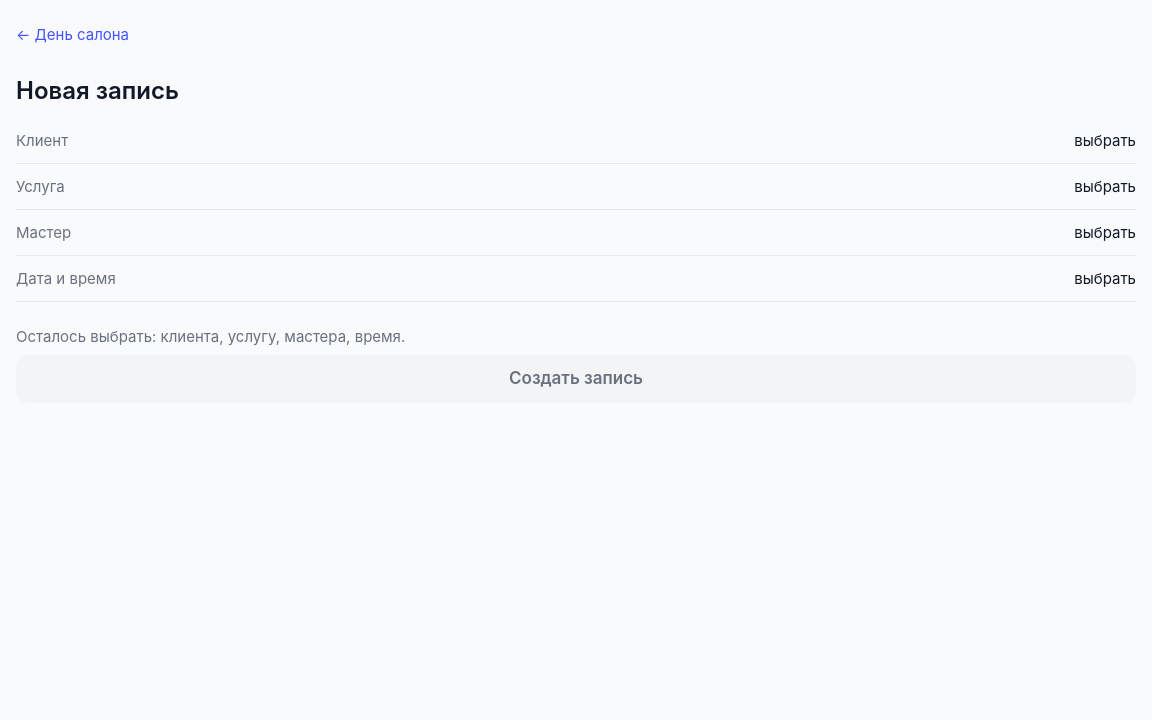
Salon v2 frozen presentation — DRF-2934 › shows explicit «Изменить» for a selected returning customer
The image size is (1152, 720).
Click the button labelled "Клиент выбрать": (42, 140) left=16, top=118, right=1136, bottom=164
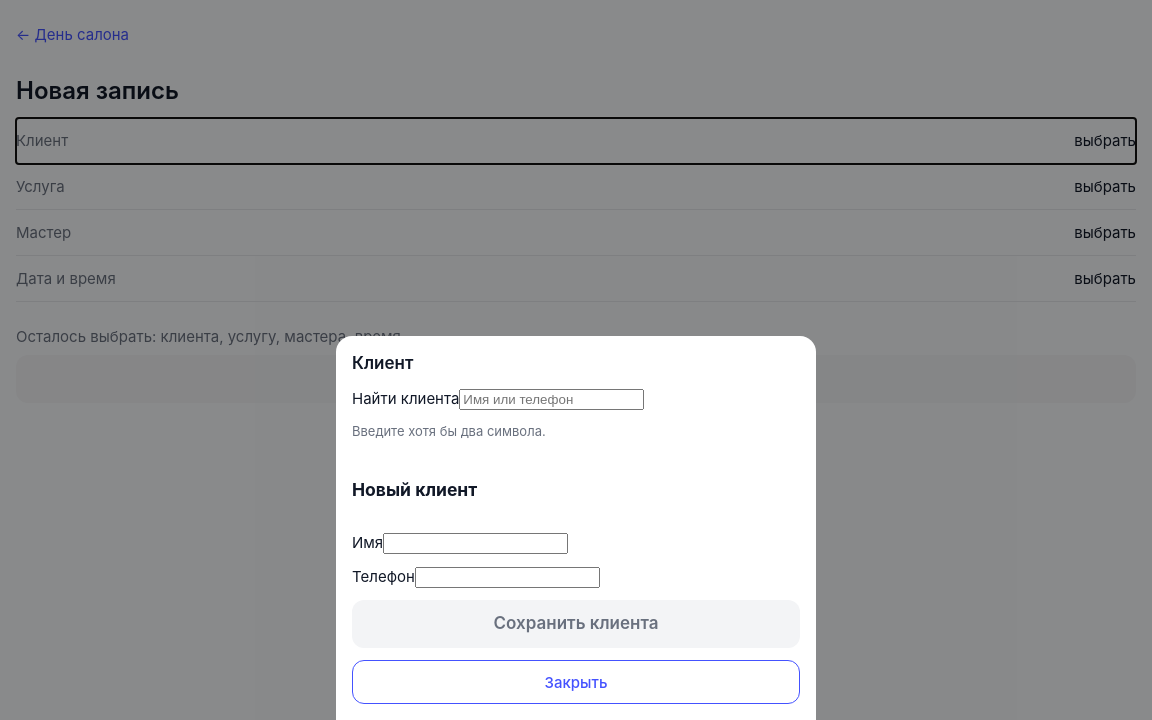
In the search field named "Поиск клиента": (552, 400) left=459, top=389, right=644, bottom=410, type "Мария"
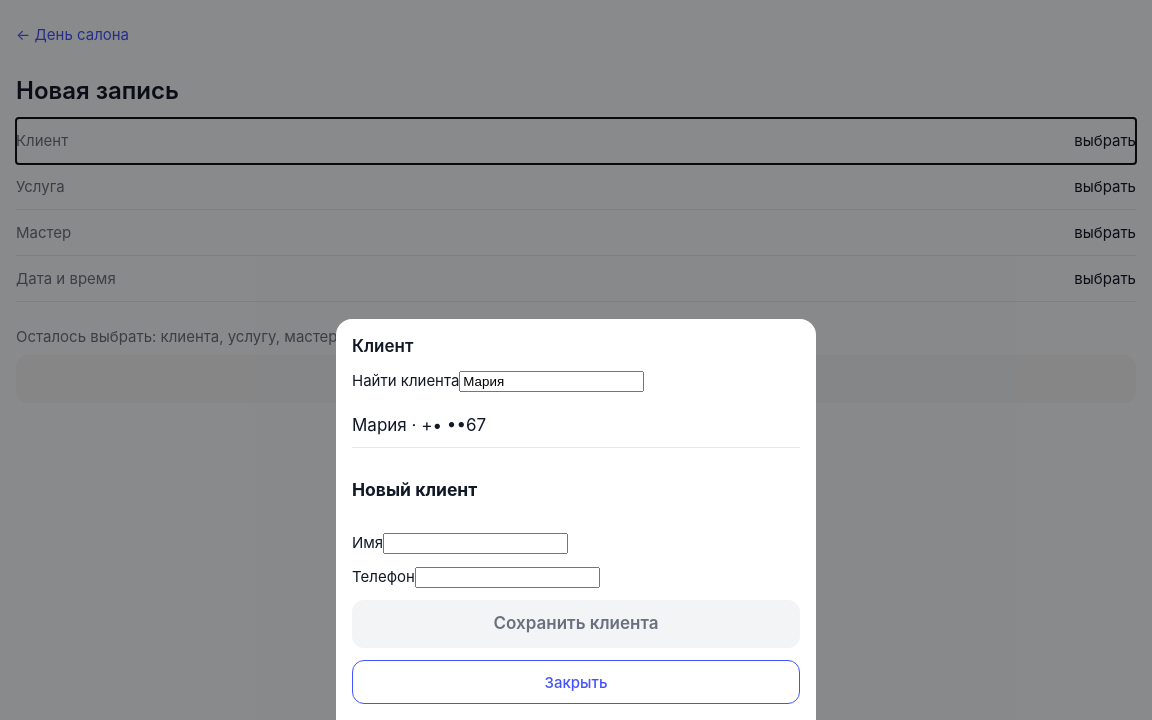
Click the button "Мария · +• ••67": (419, 425) left=352, top=404, right=800, bottom=448
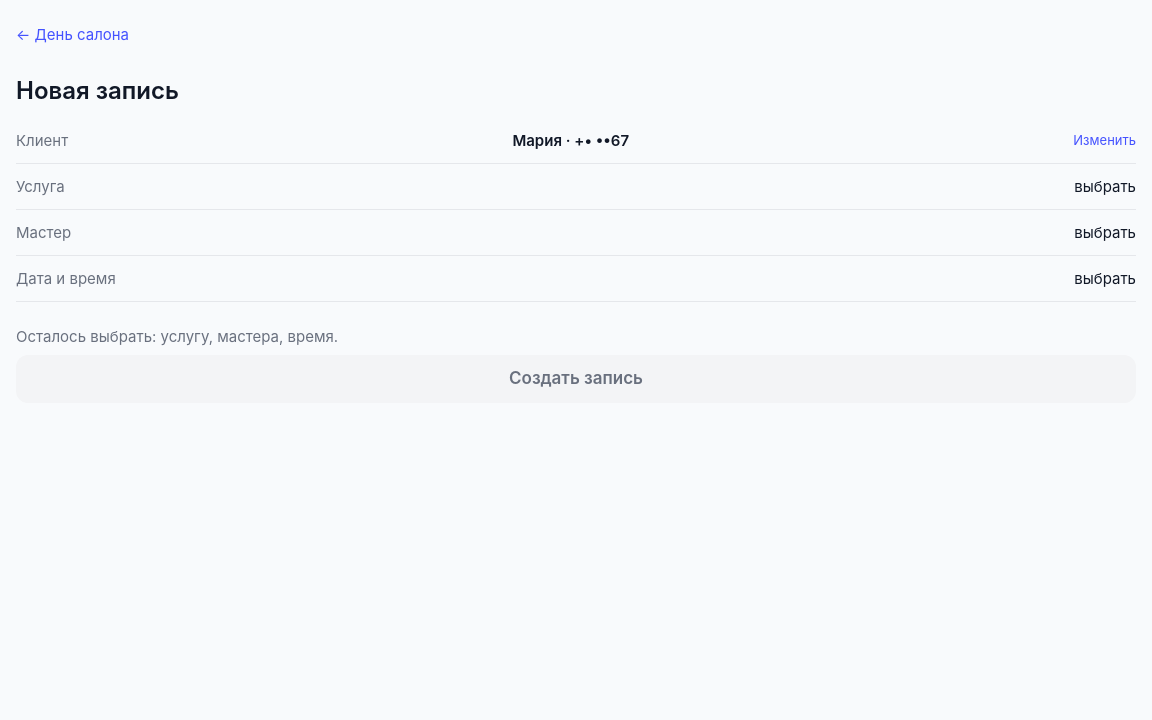
Expected: the button with aria-label "Клиент: Мария · " is shown, left=16, top=118, right=1136, bottom=164
Now the text "Изменить" is shown, box left=1073, top=131, right=1136, bottom=149
